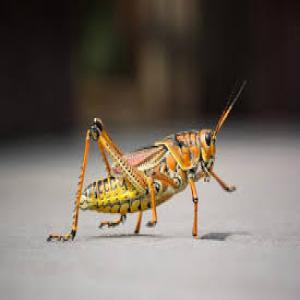locust: (91, 93, 243, 158)
